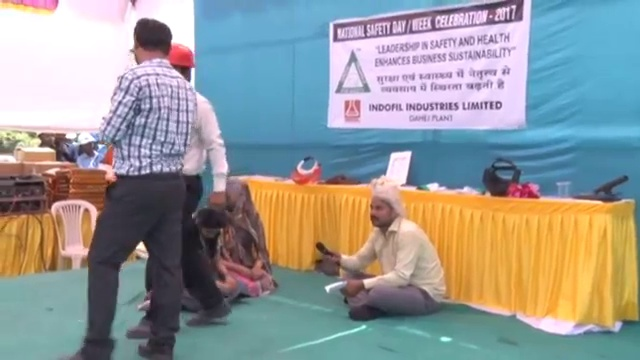helmet: (166, 46, 196, 69), (75, 132, 98, 148)
helmet_off: (119, 21, 174, 72), (361, 186, 405, 237), (187, 201, 225, 248), (218, 179, 250, 219), (34, 131, 56, 150), (53, 132, 65, 146)
helmet_on: (166, 46, 196, 81)
person: (73, 14, 198, 360), (166, 44, 236, 329), (315, 186, 448, 324), (167, 199, 241, 312), (213, 178, 275, 304), (75, 132, 99, 169)
